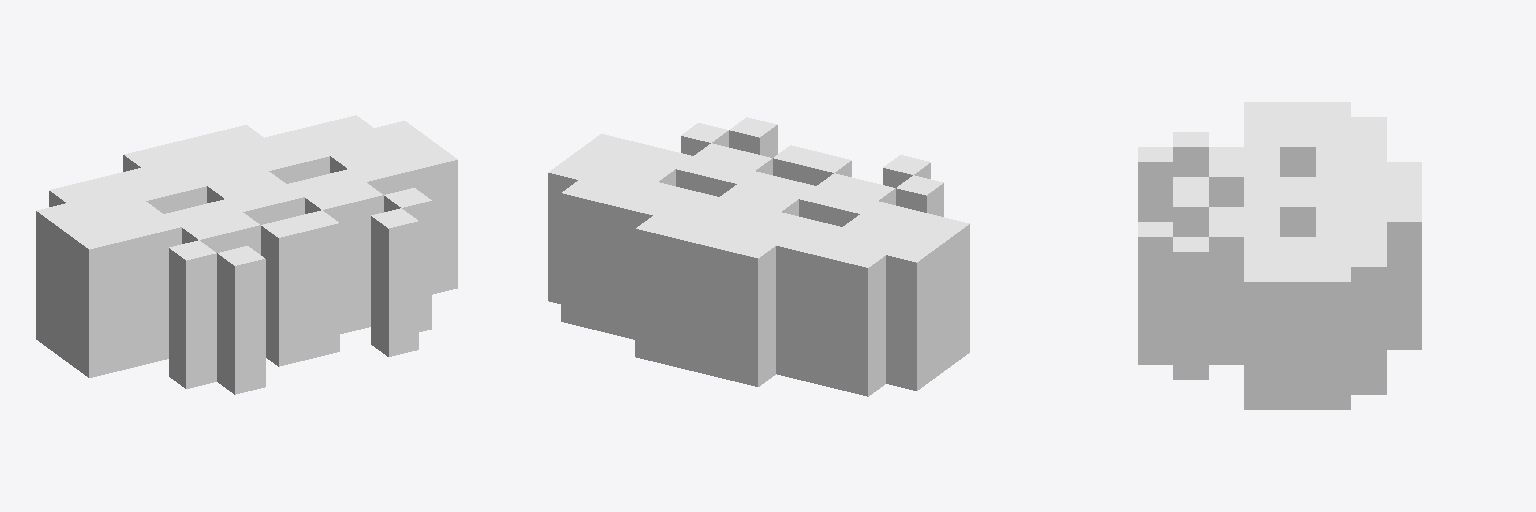
The model's file is azul2.obj.
3 views of the same model, side by side, from view 1: azimuth 30°, elevation 25°; view 2: azimuth 150°, elevation 25°; view 3: azimuth 270°, elevation 25° (orthographic).
Visible parts, largest first — view 1: object 1; view 2: object 1; view 3: object 1.
Boxes of the visible parts, <box> form: object 1: <box>36,115,457,394</box>; object 1: <box>548,117,969,396</box>; object 1: <box>1138,102,1421,409</box>.
Bounding box in the file's own units: 1.2 × 0.4 × 0.8.